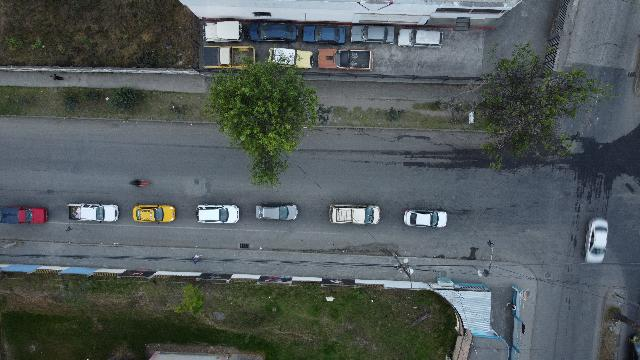Vehiculo: (202, 45, 255, 69), (319, 49, 372, 70), (585, 218, 608, 264), (330, 204, 380, 224), (247, 22, 297, 42), (269, 48, 314, 69), (68, 204, 118, 222), (0, 206, 48, 224), (197, 204, 240, 224), (352, 24, 394, 44), (398, 29, 444, 47), (205, 21, 244, 42), (404, 210, 448, 228), (302, 26, 346, 44), (133, 205, 175, 223), (256, 204, 298, 221)
